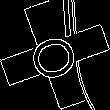O_E: (23, 26, 87, 84)
